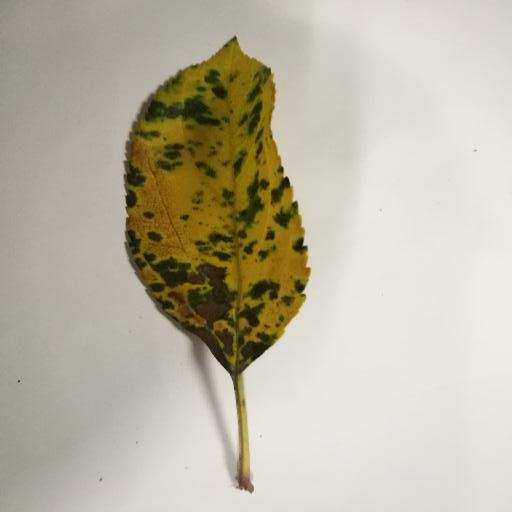Brown_Spot: (138, 235, 233, 373)
